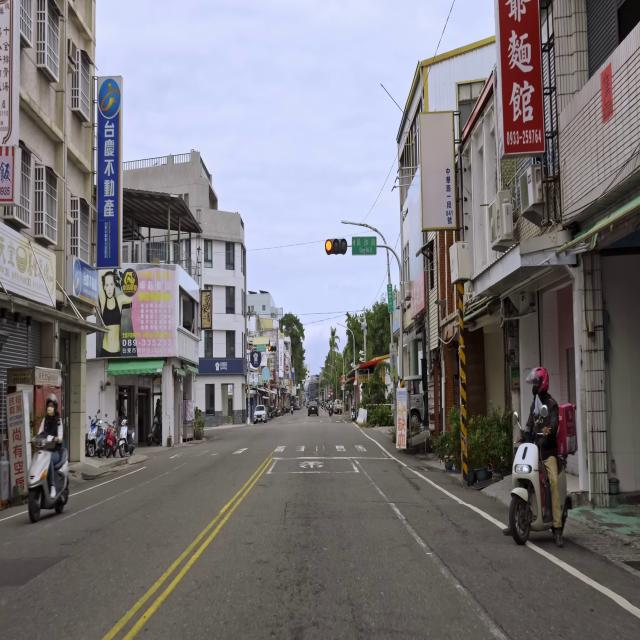red light: (324, 238, 348, 253), (268, 346, 276, 351)
